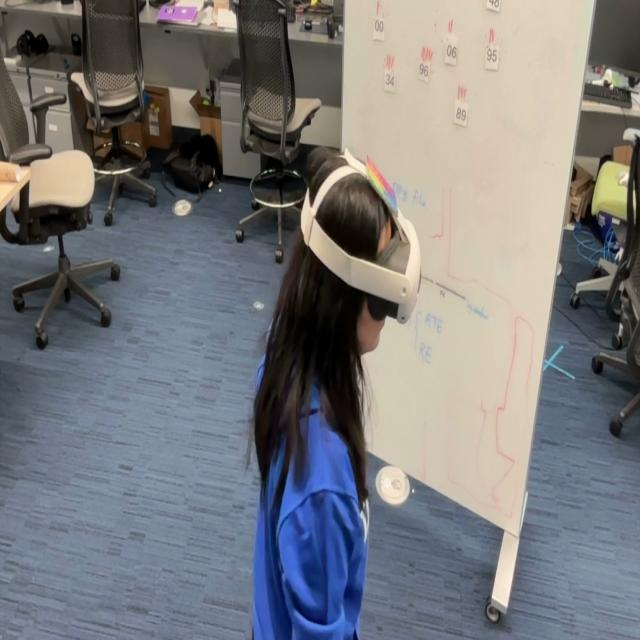Headset: (300, 152, 421, 324)
Marker: (364, 152, 400, 218)
